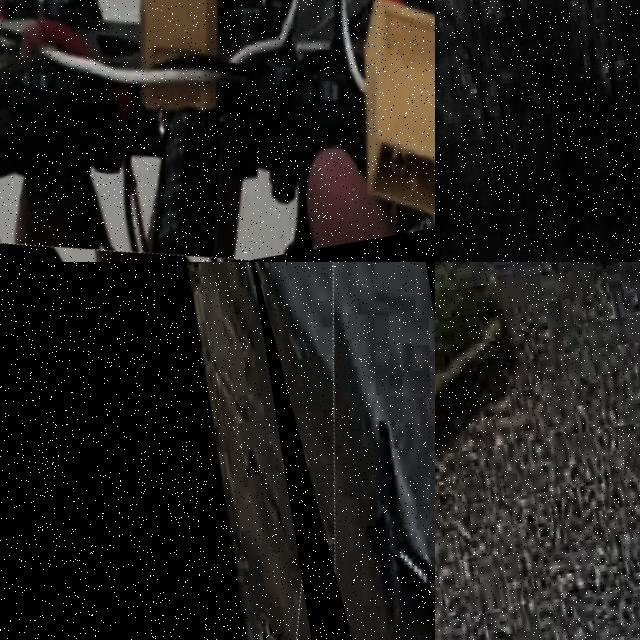0: (248, 262, 435, 640)
drone: (0, 0, 435, 262)
